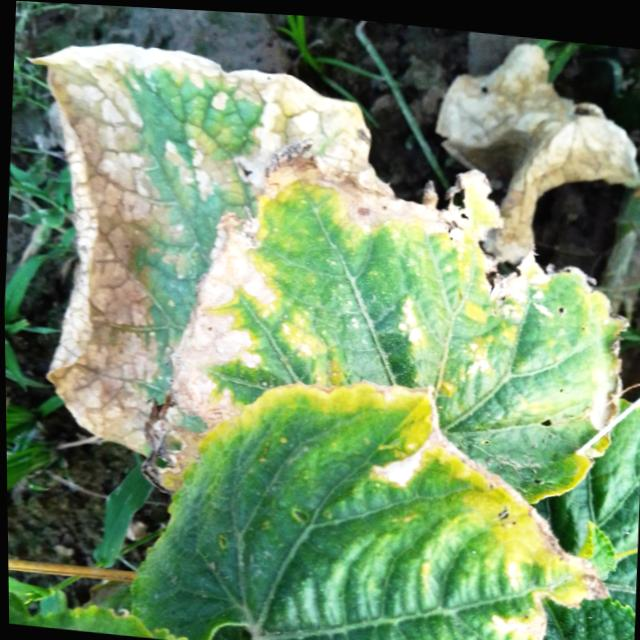Gummy-Stem-Blight: (23, 46, 394, 457), (137, 142, 470, 499)
